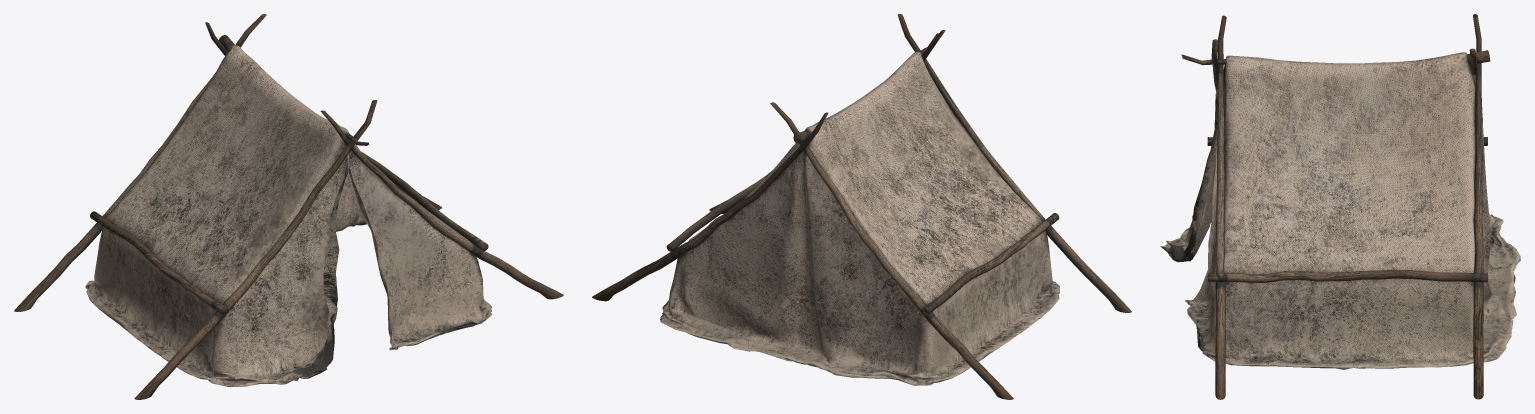
Rendered from More_open_small_tent2.glb.
3 renders of one model, left to right at view 1: azimuth 30°, elevation 25°; view 2: azimuth 150°, elevation 25°; view 3: azimuth 270°, elevation 25°, orthographic. The views are drawn at different scales.
Visible parts, largest first — view 1: 01_03_0, 01_01_0; view 2: 01_03_0, 01_01_0; view 3: 01_03_0, 01_01_0.
Part boxes in pixels (<box>): 01_03_0: <box>85,44,492,386</box>; 01_01_0: <box>14,14,563,399</box>; 01_03_0: <box>660,51,1059,385</box>; 01_01_0: <box>592,14,1131,399</box>; 01_03_0: <box>1160,52,1520,369</box>; 01_01_0: <box>1181,14,1490,399</box>.
Size of the model in its own units: 9.64 by 5.26 by 6.54.
Materials: 2 (2 with a texture image).
